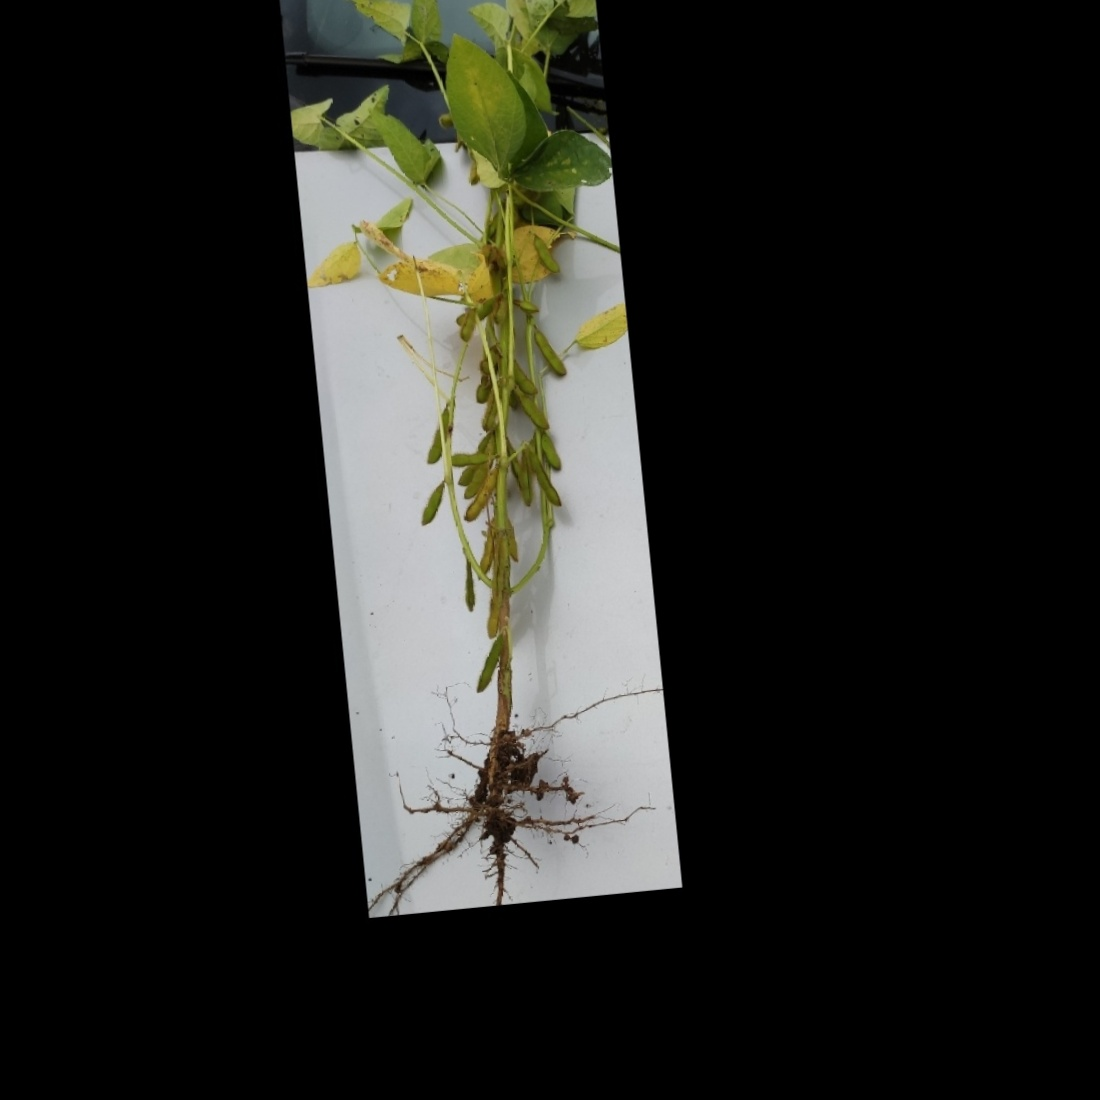pod: (525, 445, 563, 513), (469, 633, 507, 696), (458, 470, 500, 524), (420, 408, 454, 469), (415, 476, 452, 529), (514, 388, 553, 437), (532, 326, 566, 380), (530, 229, 564, 276), (540, 429, 564, 475)
soy: (326, 0, 649, 868)
